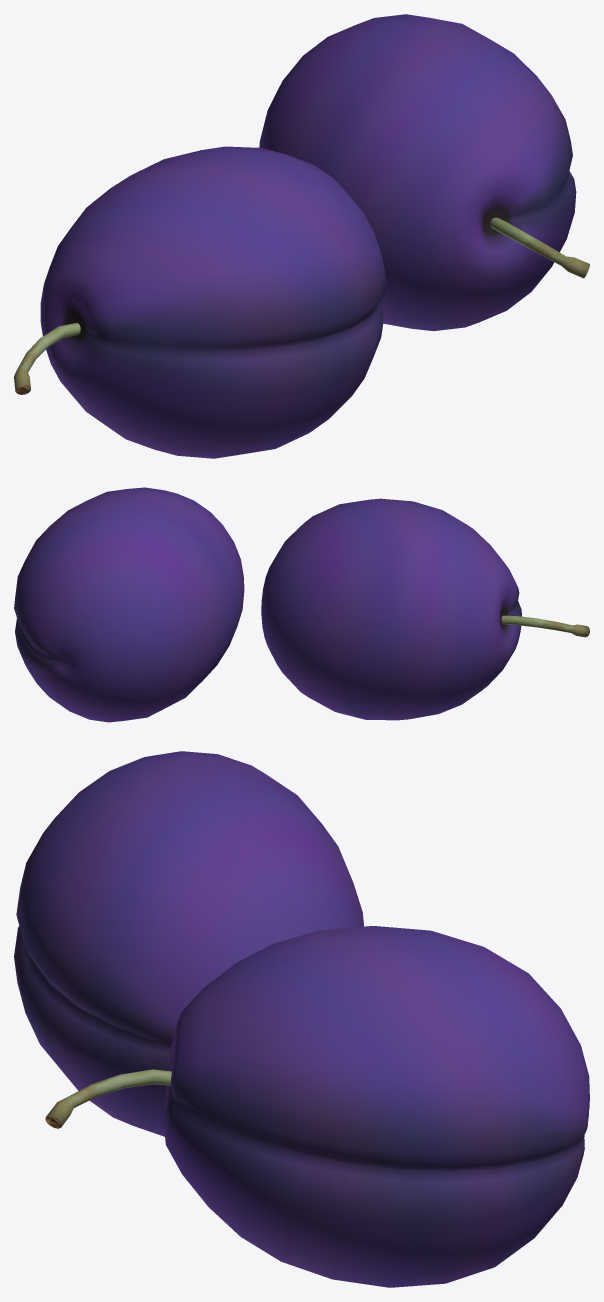
The model's file is Olxo'ri.fbx.
The picture shows the model from 3 angles, top to bottom: view 1: azimuth 30°, elevation 25°; view 2: azimuth 150°, elevation 25°; view 3: azimuth 270°, elevation 25°; orthographic projection. The views are drawn at different scales.
Visible parts, largest first — view 1: 2010071618513354663; view 2: 2010071618513354663; view 3: 2010071618513354663.
Boxes of the visible parts, box(x1,y1,x2,y2) form: 2010071618513354663: box(14, 14, 589, 458); 2010071618513354663: box(14, 487, 589, 722); 2010071618513354663: box(14, 751, 589, 1287).
Size of the model in its own units: 349 by 145 by 228.
Materials: 2 (2 with a texture image).
